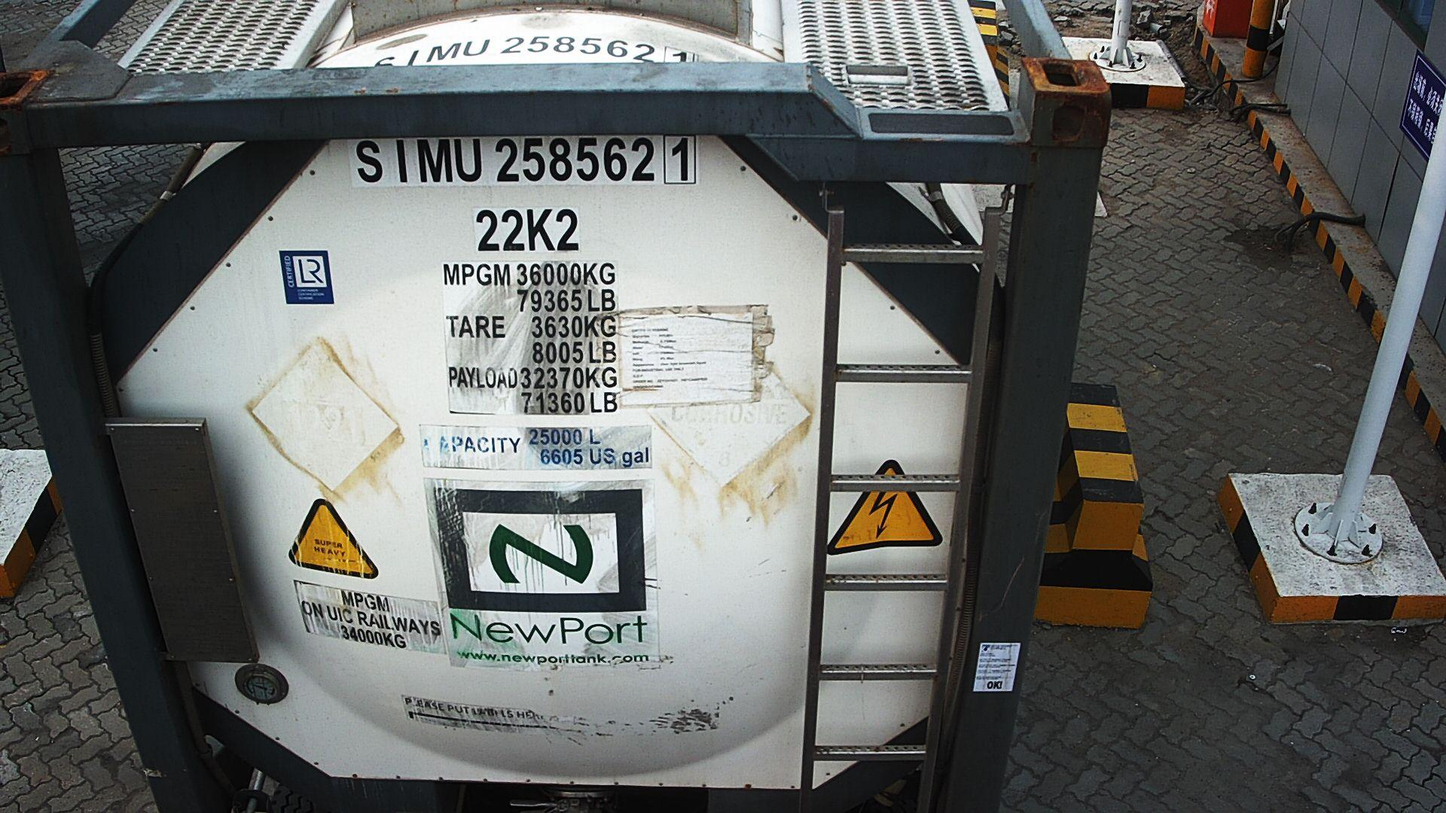container-numbers: (356, 132, 703, 190), (469, 203, 584, 256)
